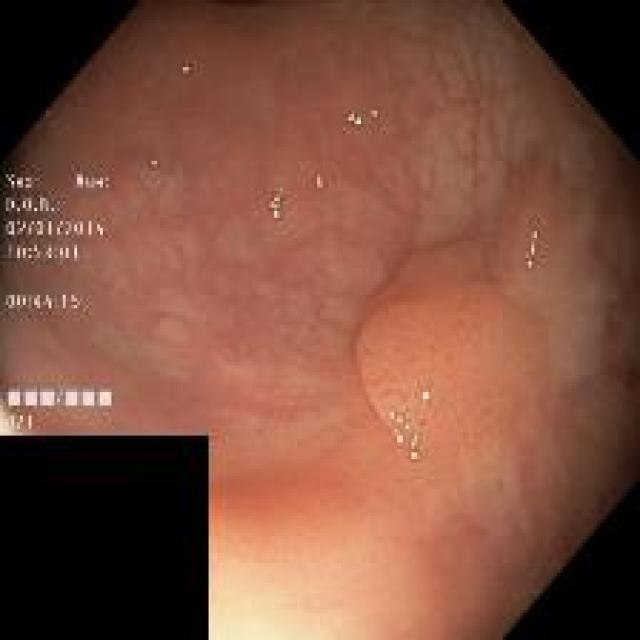Polyps: (355, 242, 552, 459)
